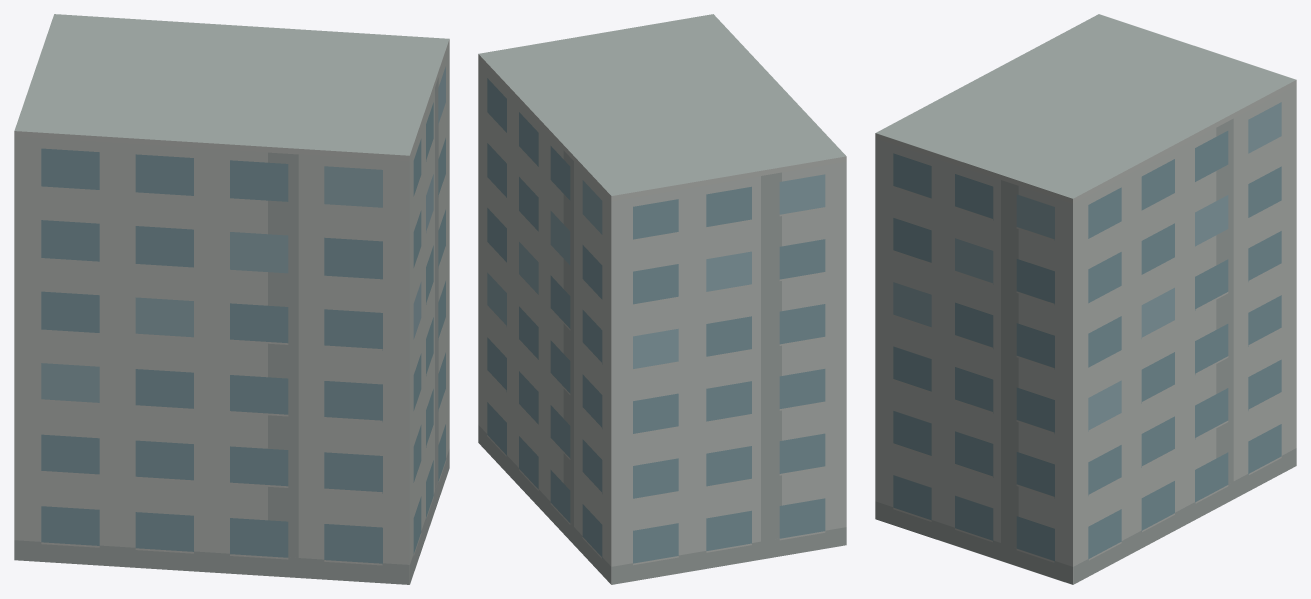
File: survey-upis-32966782.glb
The picture shows the model from 3 angles, left to right: view 1: azimuth 30°, elevation 25°; view 2: azimuth 150°, elevation 25°; view 3: azimuth 270°, elevation 25°; orthographic projection. The views are drawn at different scales.
Visible parts, largest first — view 1: survey-upis-32966782.tmp; view 2: survey-upis-32966782.tmp; view 3: survey-upis-32966782.tmp.
Boxes of the visible parts, <box> form: survey-upis-32966782.tmp: <box>14,14,449,584</box>; survey-upis-32966782.tmp: <box>478,14,846,584</box>; survey-upis-32966782.tmp: <box>875,14,1296,584</box>.
Size of the model in its own units: 18.79 by 18.3 by 18.1.
